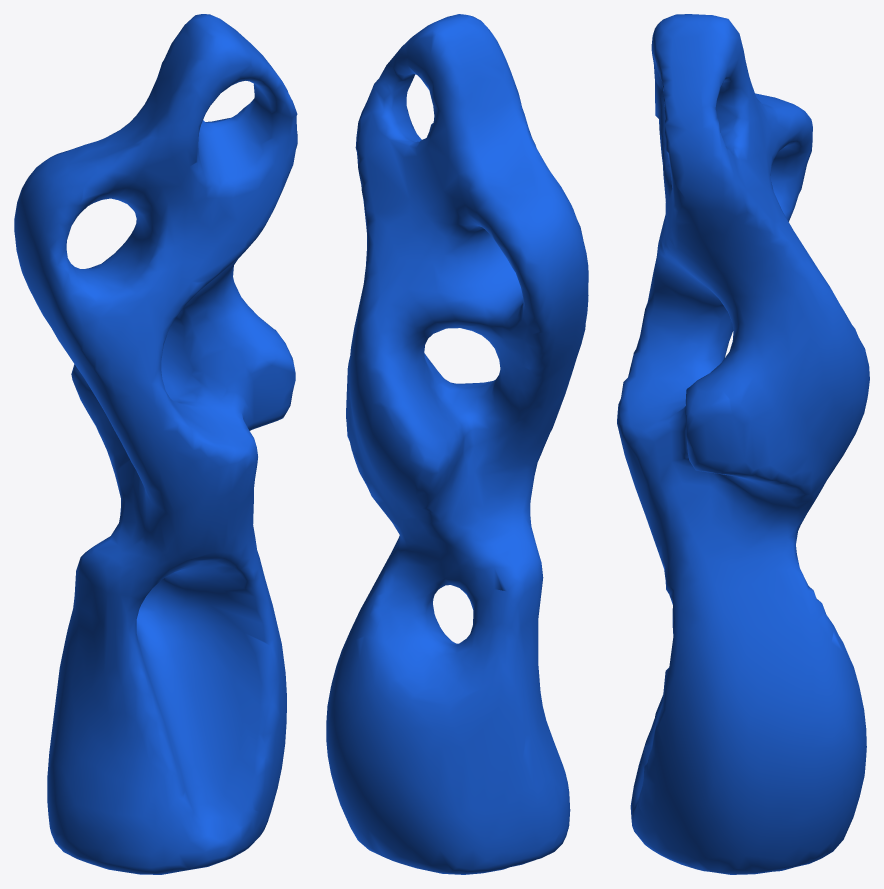
3 views of the same model, side by side, from view 1: azimuth 30°, elevation 25°; view 2: azimuth 150°, elevation 25°; view 3: azimuth 270°, elevation 25° (orthographic). The views are drawn at different scales.
Visible parts, largest first — view 1: node_0; view 2: node_0; view 3: node_0.
Boxes of the visible parts, x1,y1,x2,y2 form: node_0: [14, 14, 297, 874]; node_0: [326, 14, 588, 874]; node_0: [617, 14, 869, 874].
Bounding box in the file's own units: 0.3603 × 1.17 × 0.3223.
